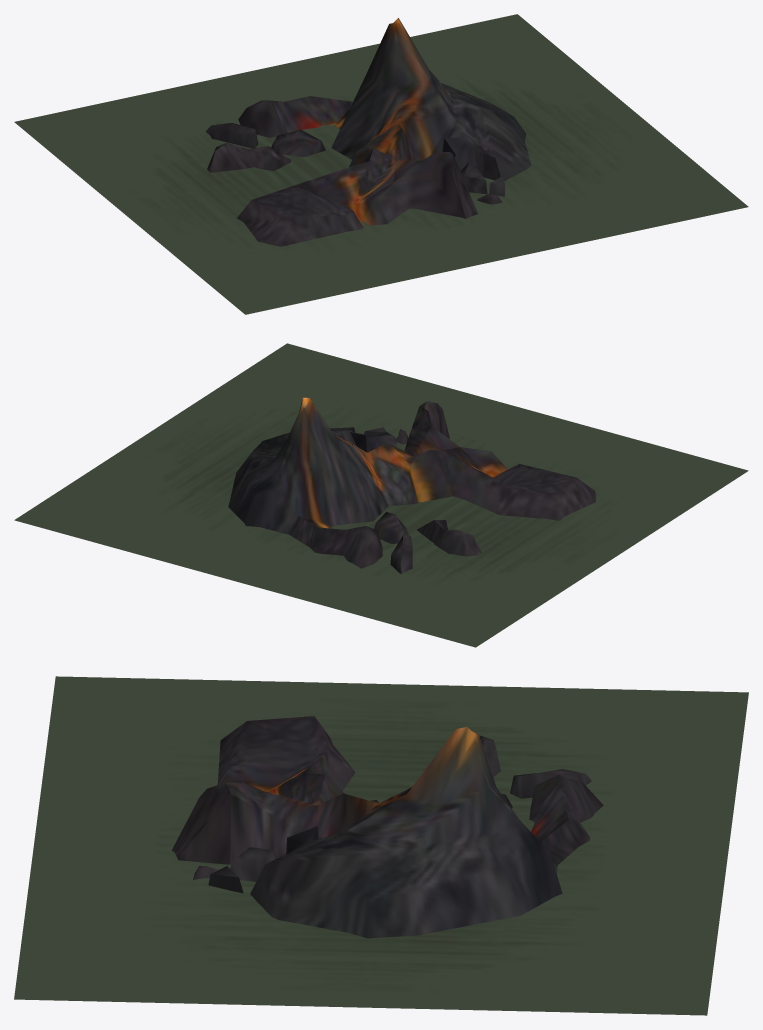
The model's file is pir_m_are_isl_delFuego_worldmap.fbx.
The picture shows the model from 3 angles, top to bottom: view 1: azimuth 30°, elevation 25°; view 2: azimuth 150°, elevation 25°; view 3: azimuth 270°, elevation 25°; orthographic projection. The views are drawn at different scales.
Parts seen in each view (by area): view 1: sketchmark, top_mesh; view 2: sketchmark, top_mesh; view 3: sketchmark, top_mesh.
Part boxes in pixels (box(x1,y1,x2,y2)): sketchmark: box(14, 14, 748, 314); top_mesh: box(206, 18, 531, 246); sketchmark: box(14, 343, 748, 647); top_mesh: box(228, 397, 595, 574); sketchmark: box(14, 676, 748, 1015); top_mesh: box(171, 716, 603, 938).
Bounding box in the file's own units: 51.53 × 11.26 × 47.2.
2 materials, 2 textured.
